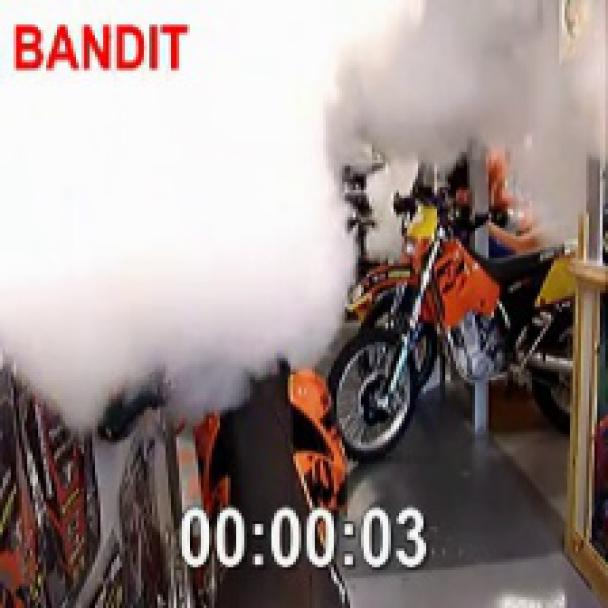smoke: (0, 0, 607, 455)
